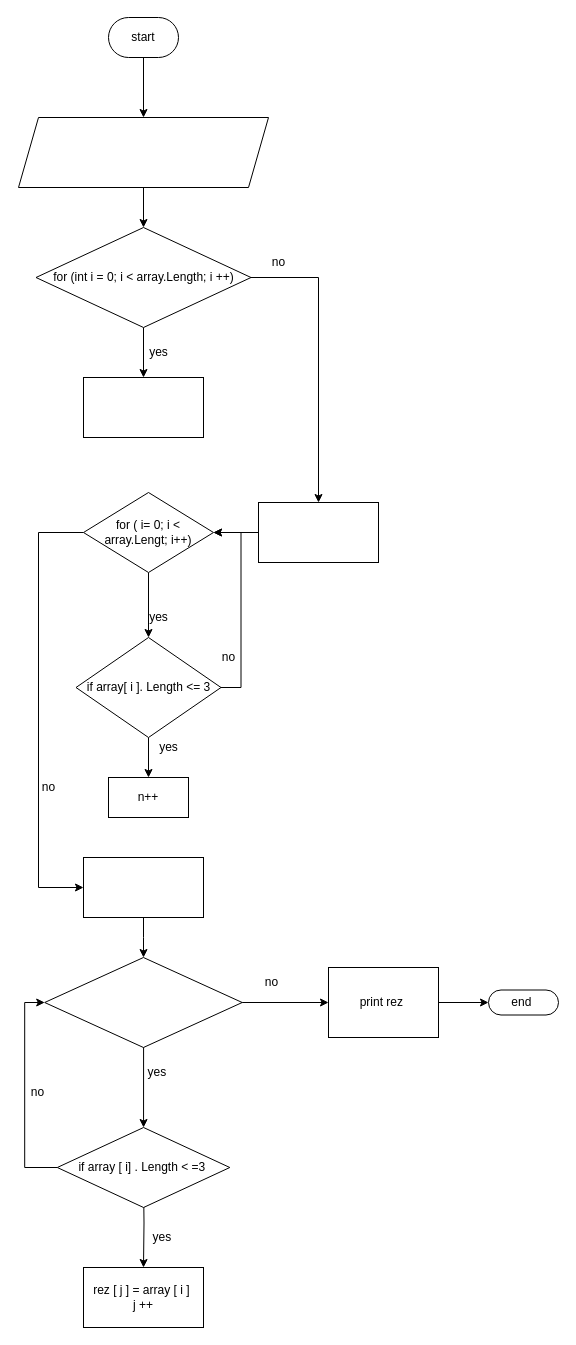
The diagram is 576 pixels wide and 1345 high, and some of its shapes have lost their labels. The centre of each missing label's shape, as x and y in pixels:
"array [i] = Console.ReadLine" goes at point (143, 407).
"for (int i =0; i < array.Length; i++" goes at point (143, 1002).
"int n = 0" goes at point (318, 532).
"string [] array = new string [5]" goes at point (143, 152).
"string [] rez = new string [n] int j = 0" goes at point (143, 887).
